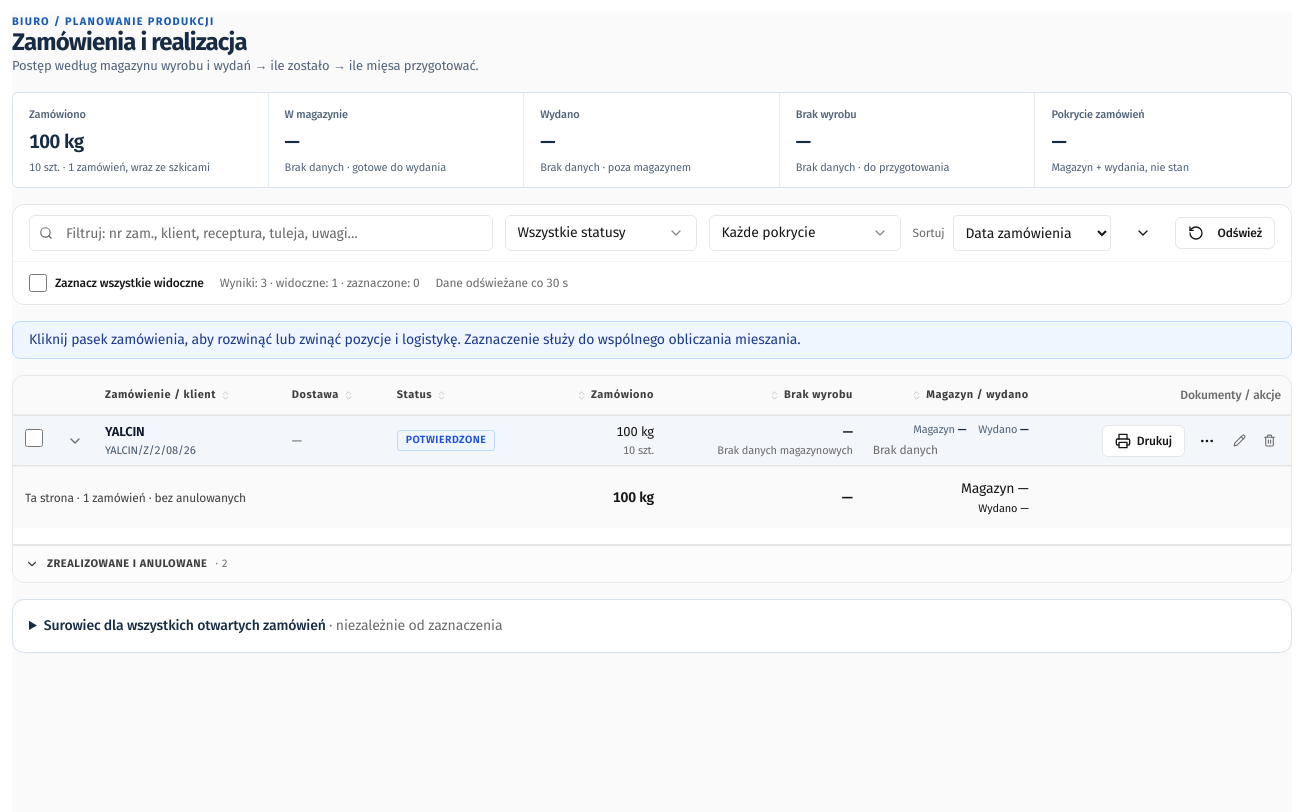
Test: ClientOrdersPage — bieżące osobno od zrealizowanych › zamknięte są policzone i dostępne po rozwinięciu
The image size is (1304, 812).
Click the button "Zrealizowane i anulowane · 2".
click(127, 564)  # box [13,546,1291,582]
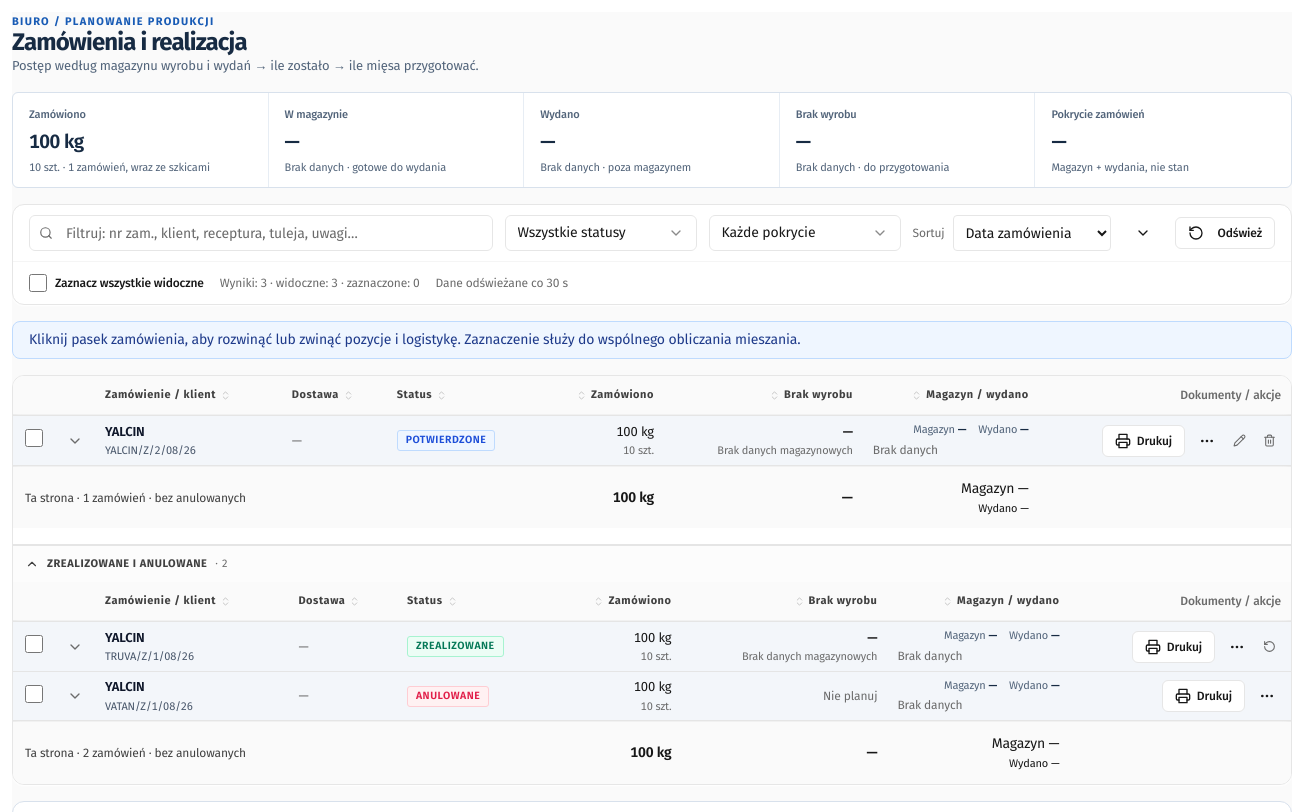
Expected: the text "TRUVA/Z/1/08/26" is shown, [105,650,194,663]
Expected: the text "VATAN/Z/1/08/26" is shown, [105,700,193,713]
